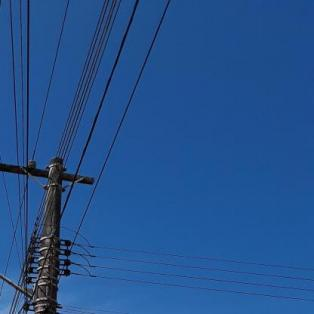Poste: (0, 148, 73, 314)
